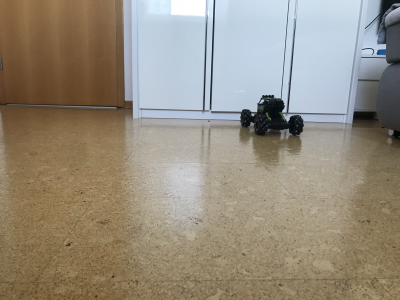remote control car: (239, 92, 306, 138)
